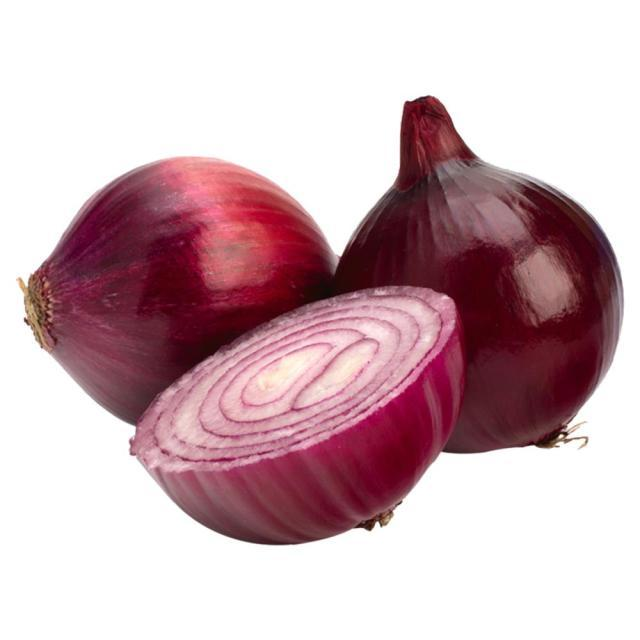onion: (330, 90, 623, 452), (137, 284, 465, 550), (27, 152, 340, 427)
